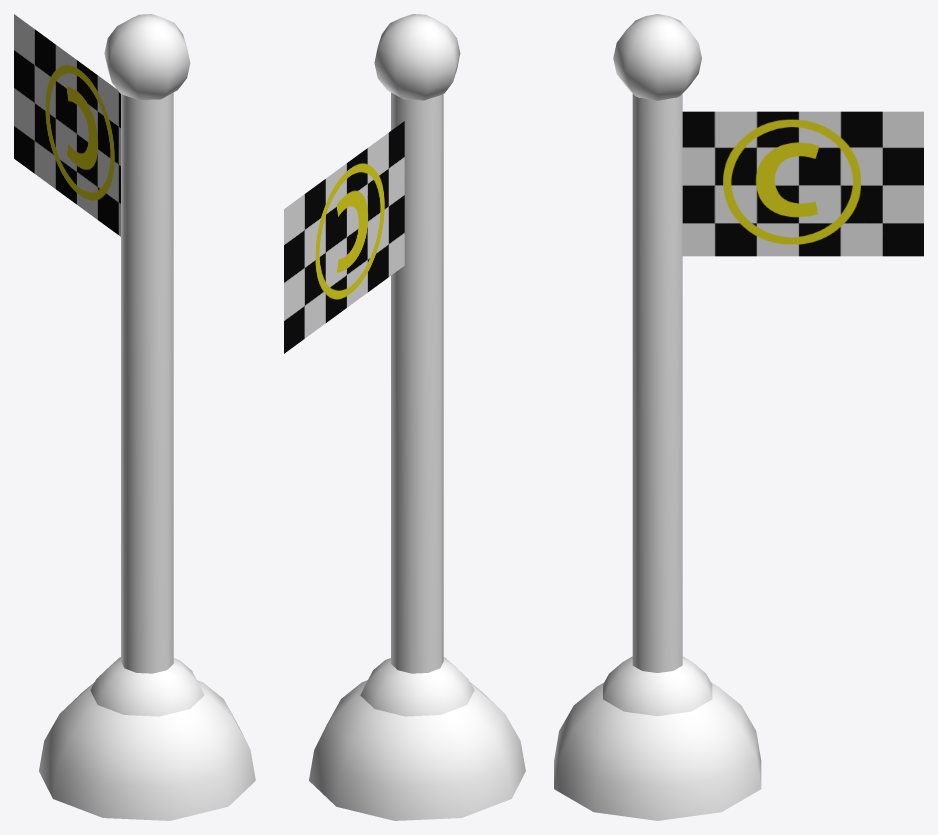
File: CheckPoint.fbx
The picture shows the model from 3 angles, left to right: view 1: azimuth 30°, elevation 25°; view 2: azimuth 150°, elevation 25°; view 3: azimuth 270°, elevation 25°; orthographic projection.
Visible parts, largest first — view 1: pSphere4; view 2: pSphere4; view 3: pSphere4.
Part boxes in pixels (x1=…): pSphere4: x1=14, y1=14, x2=255, y2=820; pSphere4: x1=284, y1=14, x2=525, y2=820; pSphere4: x1=554, y1=14, x2=923, y2=820.
Bounding box in the file's own units: 2 × 7.67 × 3.4.
